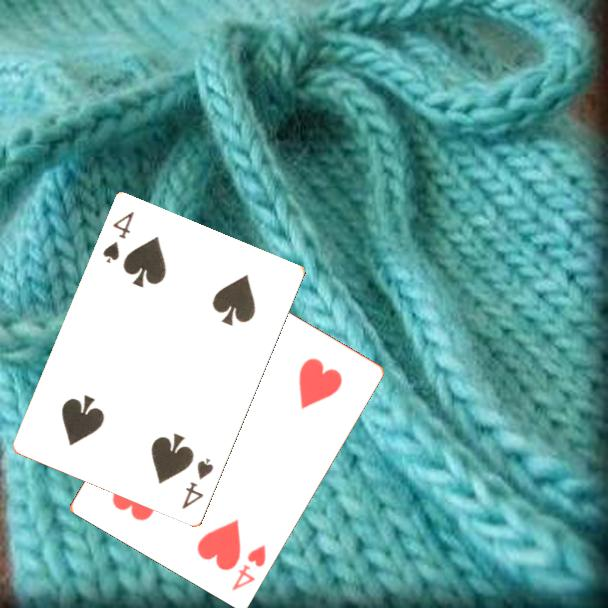h04: (228, 541, 269, 593)
s04: (178, 455, 217, 513), (99, 208, 137, 266)
